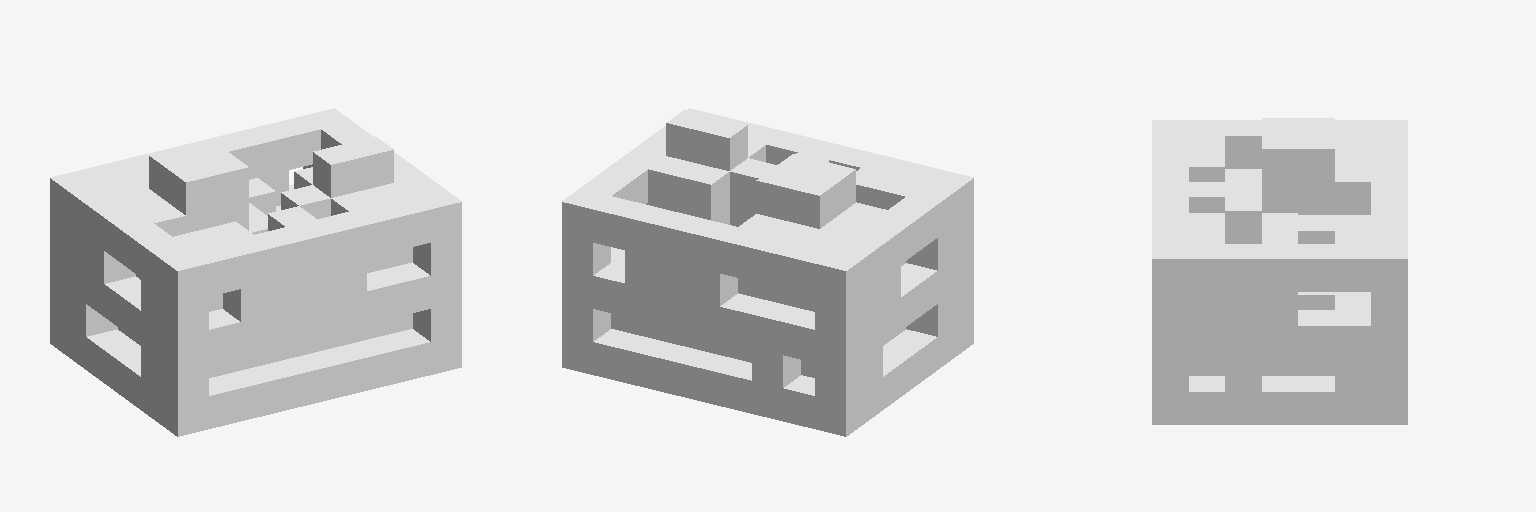
File: box_orange.vox.obj
3 views of the same model, side by side, from view 1: azimuth 30°, elevation 25°; view 2: azimuth 150°, elevation 25°; view 3: azimuth 270°, elevation 25° (orthographic).
Parts seen in each view (by area): view 1: object 1; view 2: object 1; view 3: object 1.
Boxes of the visible parts, x1=… form: object 1: x1=50, y1=108, x2=461, y2=436; object 1: x1=562, y1=108, x2=973, y2=436; object 1: x1=1152, y1=118, x2=1407, y2=424.
Bounding box in the file's own units: 0.9 × 0.6 × 0.7.